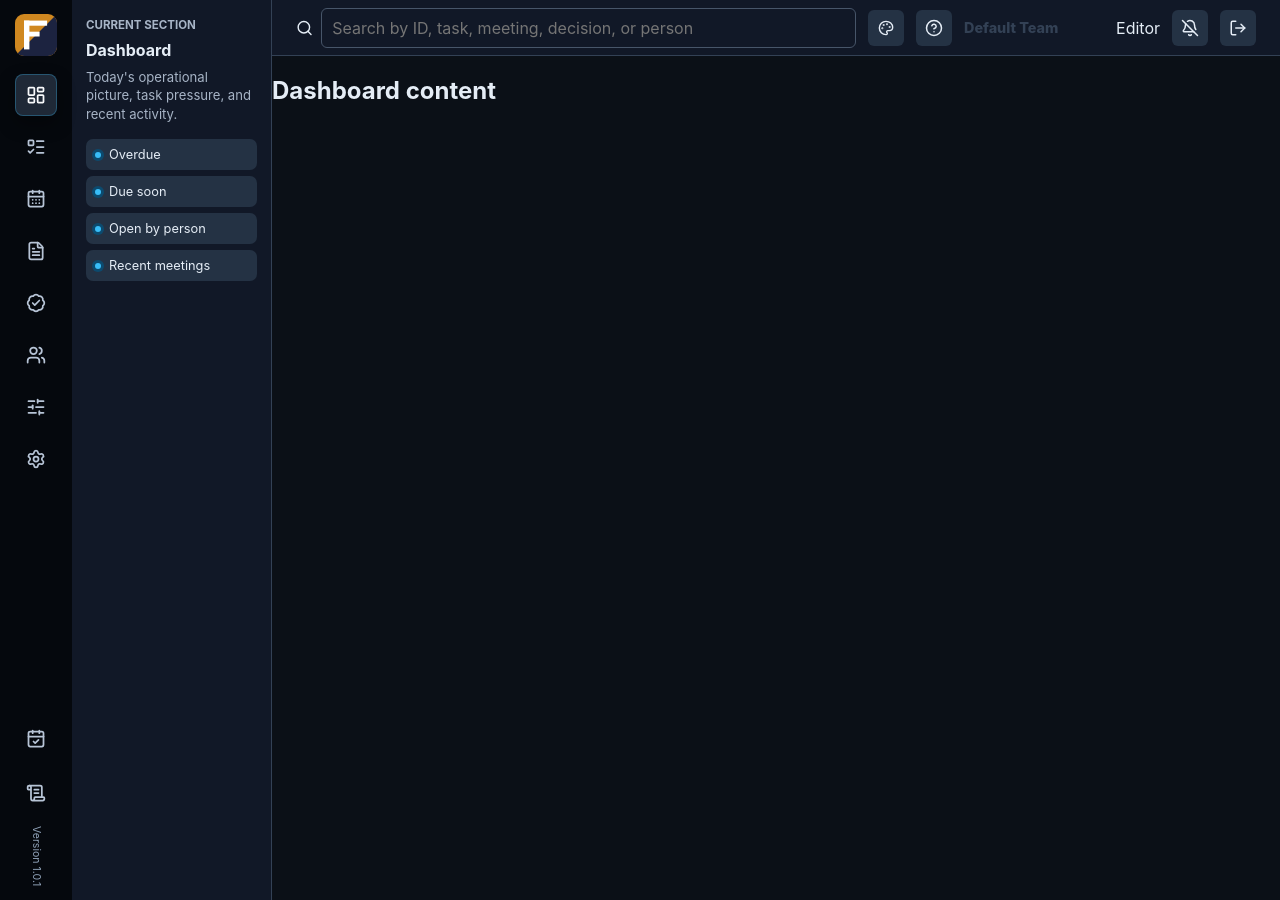
Test case: AppShell split context rail › offers all app skins from a compact picker
Click the button named "Choose app skin": (886, 28) [868, 10, 904, 46]
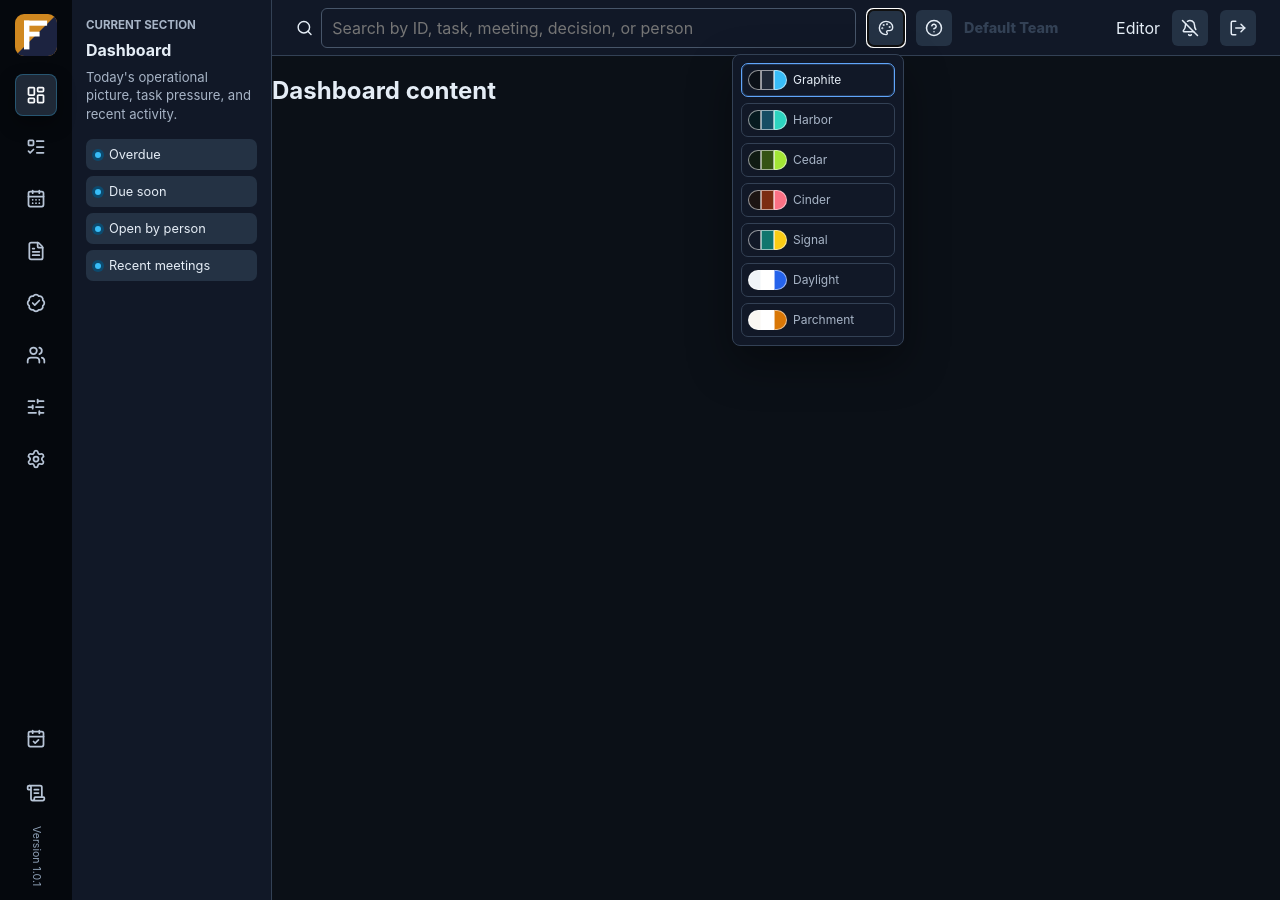
Expected: the radio button labelled "Graphite" is shown, [741, 62, 895, 96]
Expected: the radio button labelled "Harbor" is shown, [741, 102, 895, 136]
Expected: the radio button labelled "Cedar" is shown, [741, 142, 895, 176]
